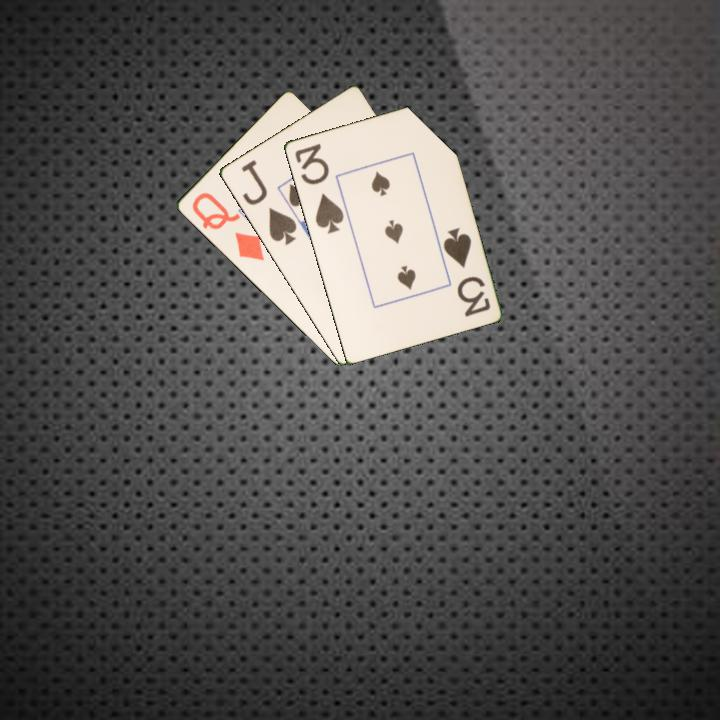3s: (291, 140, 347, 236), (439, 224, 493, 319)
Js: (237, 156, 299, 248)
Qd: (188, 189, 267, 264)
